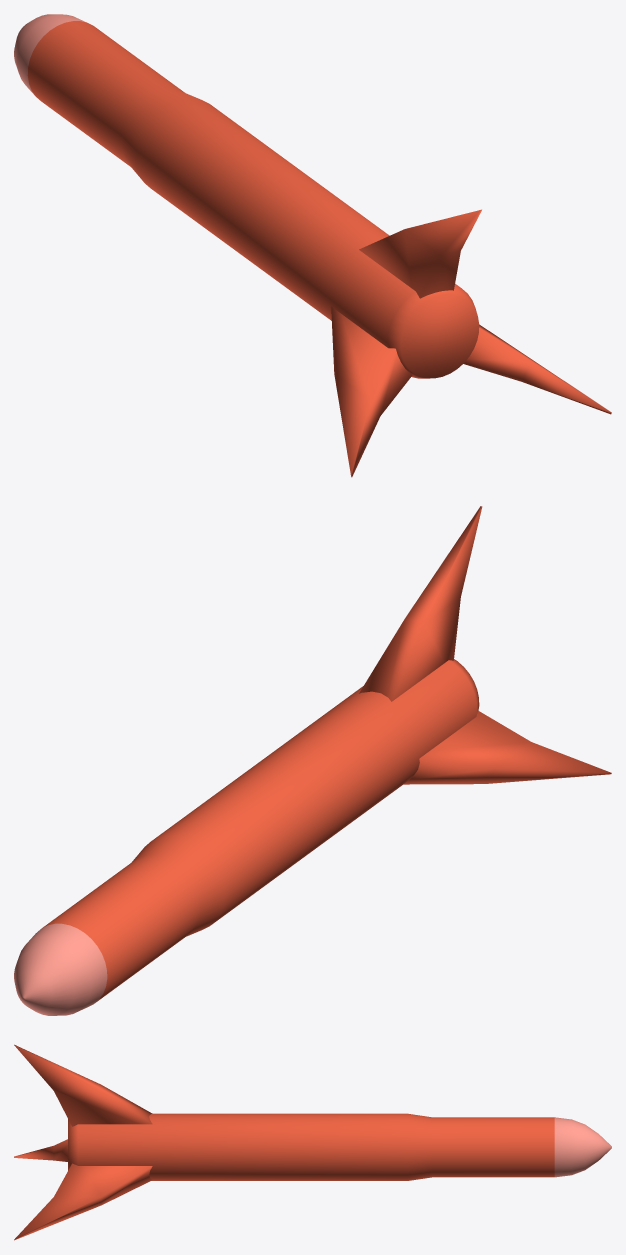
File: Rocket.fbx
3 renders of one model, top to bottom at view 1: azimuth 30°, elevation 25°; view 2: azimuth 150°, elevation 25°; view 3: azimuth 270°, elevation 25°, orthographic. The views are drawn at different scales.
Parts seen in each view (by area): view 1: Body, Wing; view 2: Body, Wing; view 3: Body, Wing.
Boxes of the visible parts, box(x1,y1,x2,y2) form: Body: box(14, 14, 479, 378); Wing: box(331, 209, 611, 477); Body: box(14, 659, 479, 1015); Wing: box(359, 506, 611, 784); Body: box(68, 1113, 611, 1180); Wing: box(14, 1044, 152, 1240).
Bounding box in the file's own units: 0.4674 × 0.5397 × 1.64.
